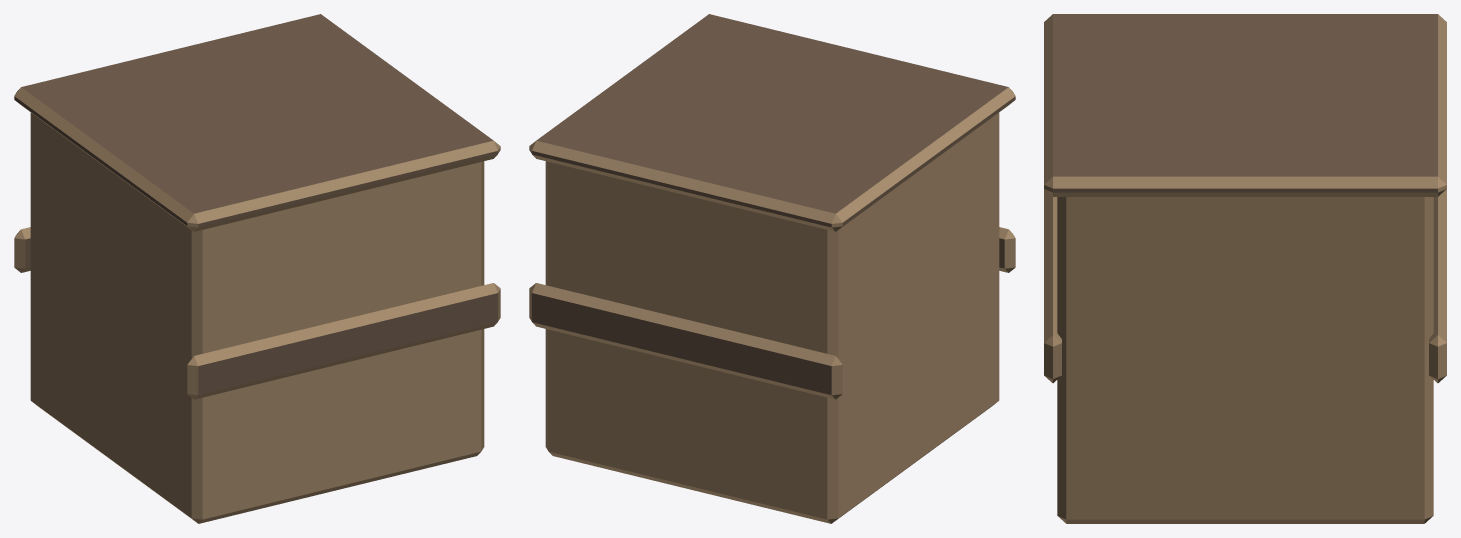
File: SM_Kit_caixa.fbx
3 views of the same model, side by side, from view 1: azimuth 30°, elevation 25°; view 2: azimuth 150°, elevation 25°; view 3: azimuth 270°, elevation 25° (orthographic). The views are drawn at different scales.
Visible parts, largest first — view 1: SM_Kit_caixa; view 2: SM_Kit_caixa; view 3: SM_Kit_caixa.
Boxes of the visible parts, left/top/right/bottom form: SM_Kit_caixa: left=14, top=14, right=500, bottom=523; SM_Kit_caixa: left=529, top=14, right=1015, bottom=523; SM_Kit_caixa: left=1044, top=14, right=1446, bottom=523.
Size of what is drawn, in the model's own units: 90 by 87 by 90.
